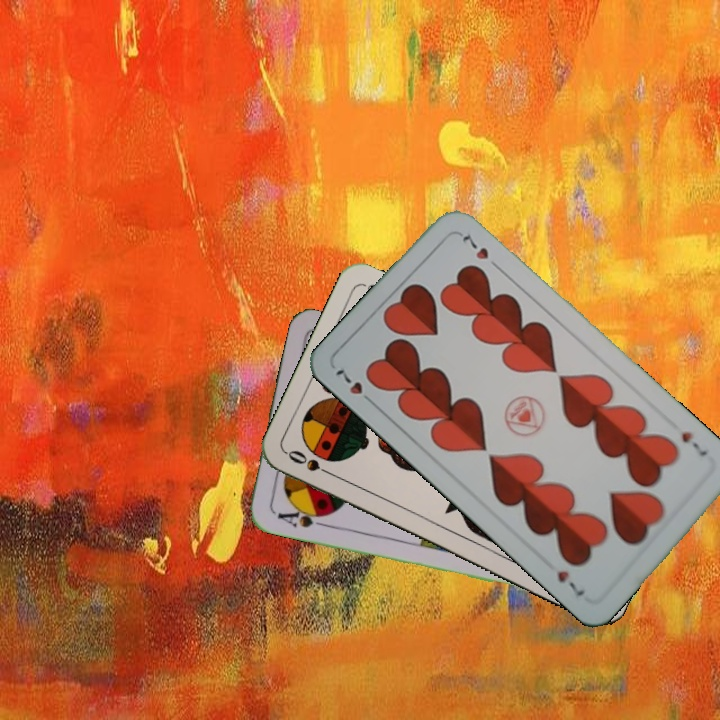H7: (332, 362, 379, 409), (677, 427, 710, 459)
SA: (270, 502, 331, 530)
SO: (283, 446, 339, 480)
